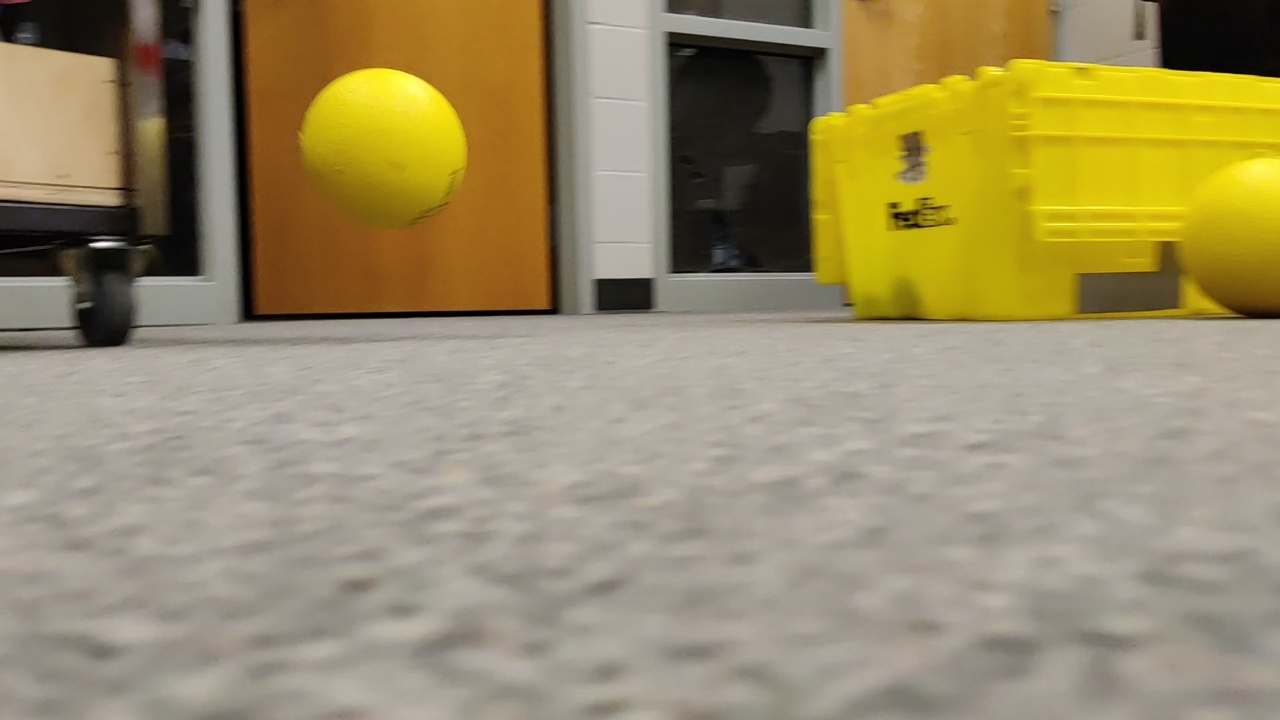Ball: (297, 53, 492, 243)
